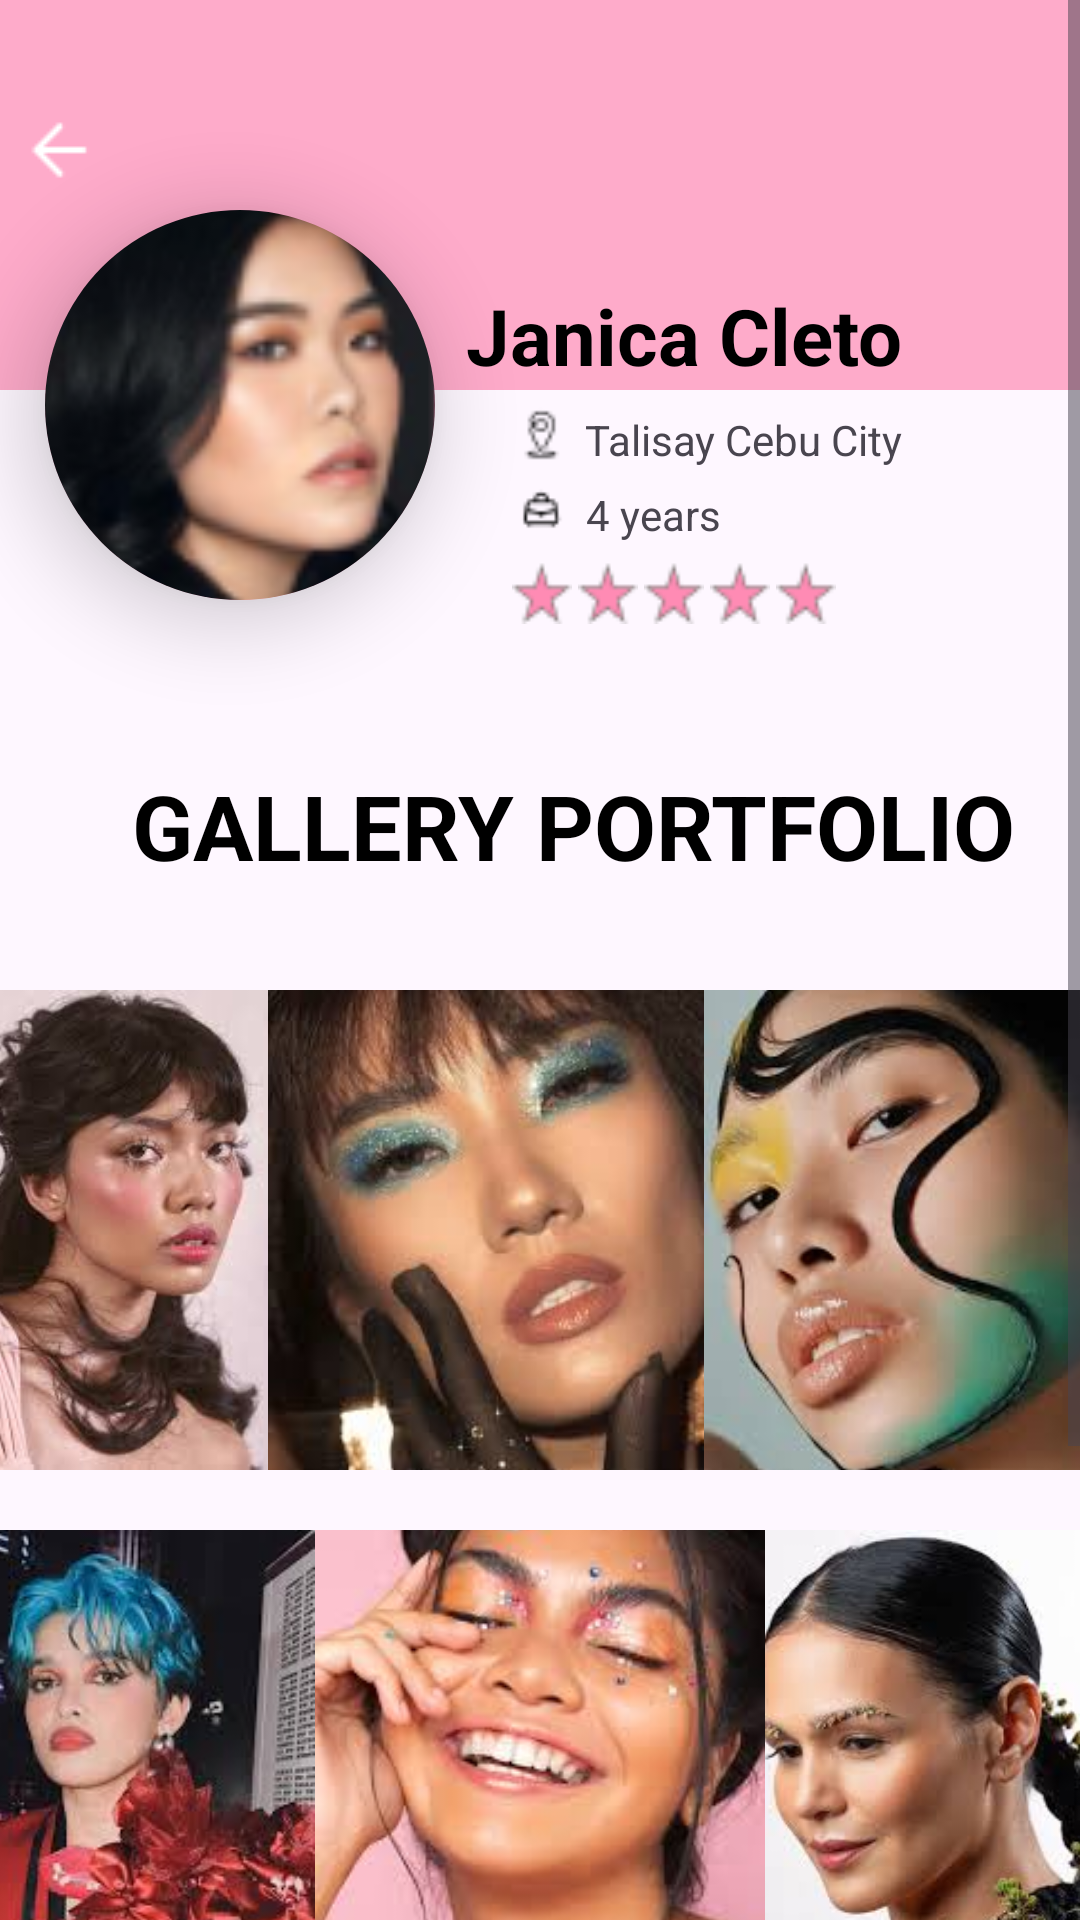

Screen size 1080 × 1920. Icon name, then its center in pixels as point (x, y):
bag: point (541, 510)
loc: point (541, 435)
star: point (542, 594), point (608, 594), point (674, 594), point (740, 594), point (806, 594)
